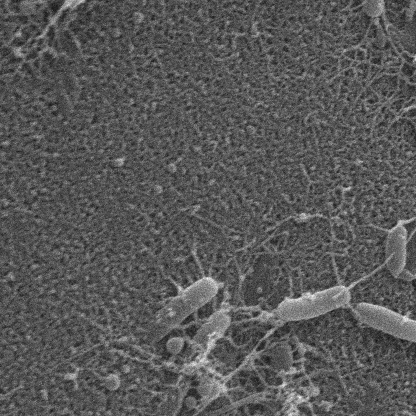cell2cell: (402, 43, 416, 250), (343, 248, 396, 295)
cell2surface: (172, 324, 285, 416), (189, 245, 219, 284), (400, 406, 416, 416), (0, 415, 2, 416)
regular: (150, 278, 222, 332), (276, 289, 348, 321), (361, 304, 416, 345), (341, 0, 387, 19)
